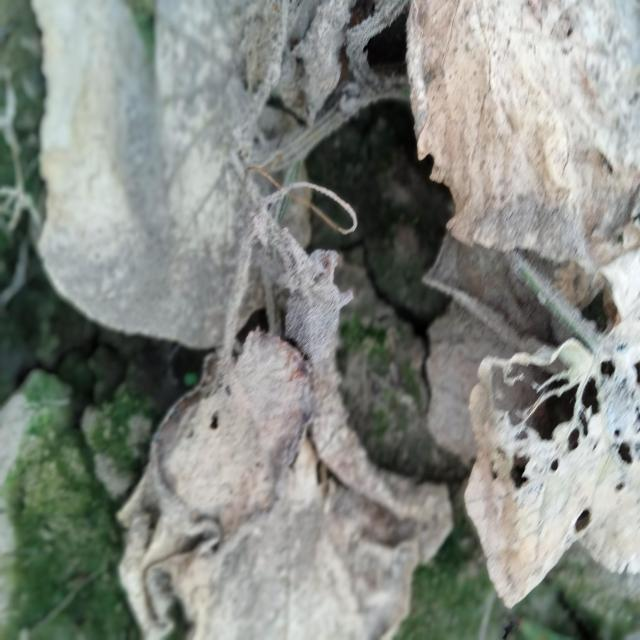cucumber_bacterial: (96, 310, 448, 640), (38, 0, 376, 299), (411, 3, 640, 267), (467, 306, 640, 620)
